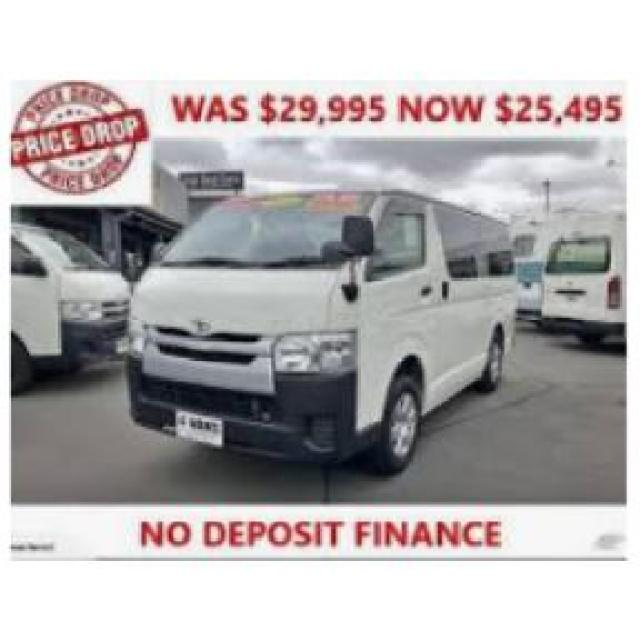Van: (127, 177, 515, 478)
